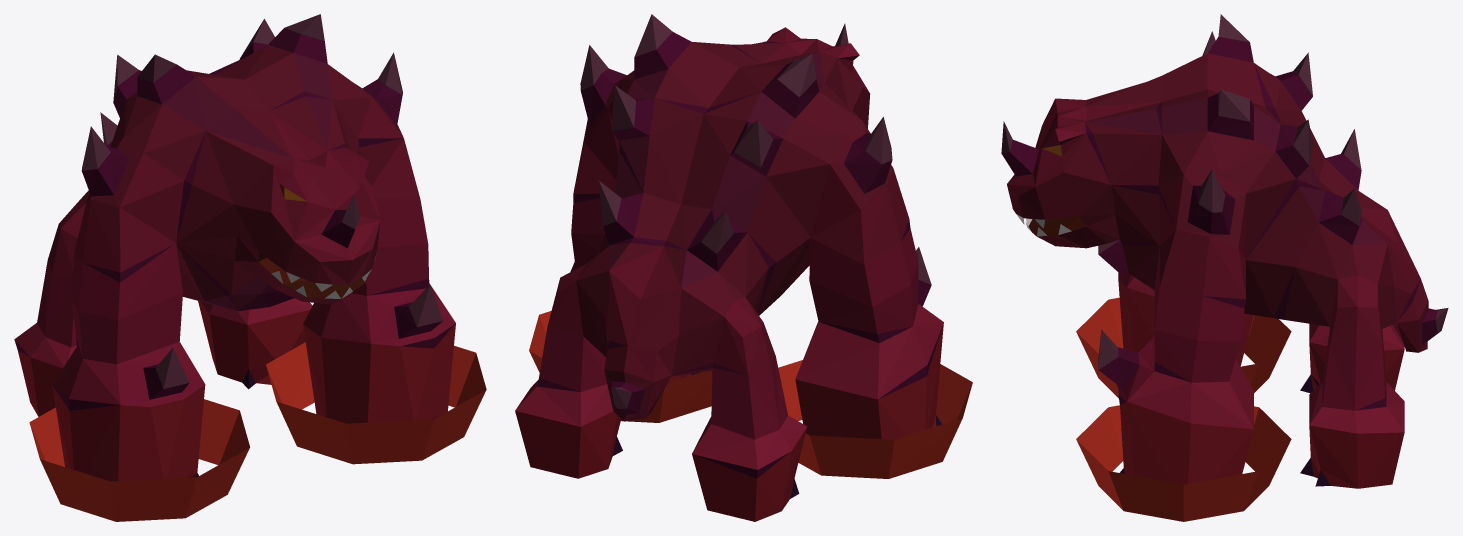
File: jad.glb
3 views of the same model, side by side, from view 1: azimuth 30°, elevation 25°; view 2: azimuth 150°, elevation 25°; view 3: azimuth 270°, elevation 25° (orthographic). The views are drawn at different scales.
Size of the model in its own units: 611 by 545 by 581.
1 material, 1 textured.
